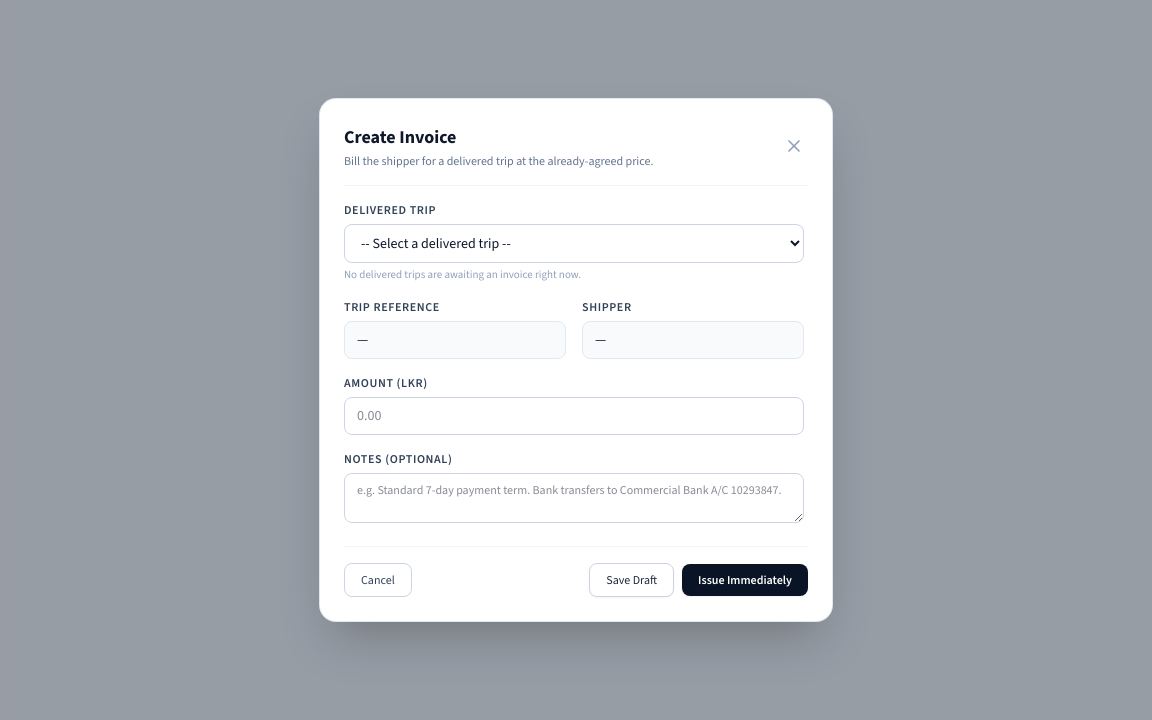
InvoiceFormModal — create mode (trip-linked, single amount) › rejects submission with no trip selected and no amount
Step 1. Click the button "Save Draft" → (632, 580), box [589,563,674,597]
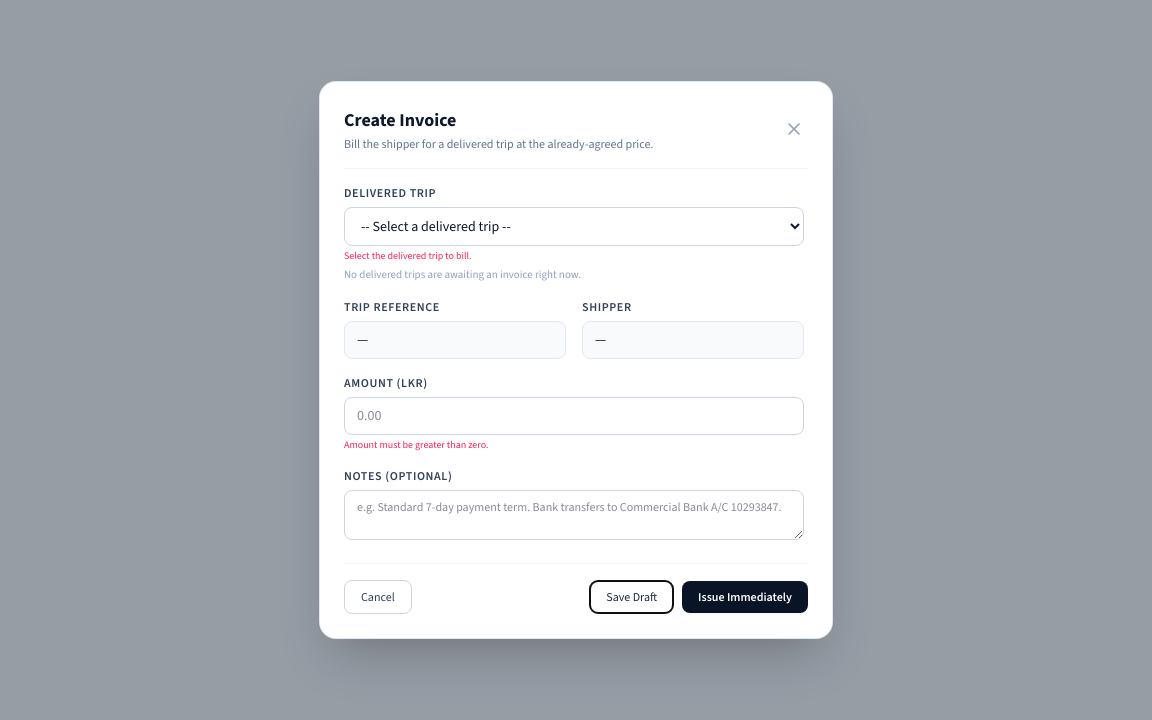
Expected: the text "Select the delivered trip to bill." is shown, [344,249,472,262]
Expected: the text "Amount must be greater than zero." is shown, [344,438,488,451]
